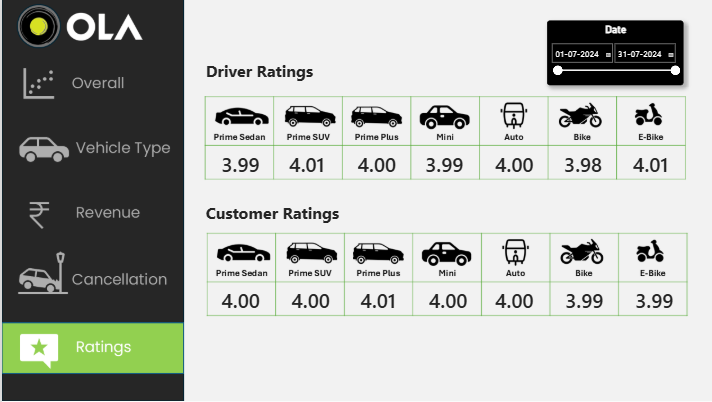

This screenshot's page, from the dashboard's own definition file:
{"tool":"powerbi","page":{"name":"Ratings","canvas":[1920,1080],"ordinal":4},"visuals":[{"type":"actionButton","box":[0,512.4,490.3,130.2],"z":0},{"type":"actionButton","box":[0,332.4,490.3,130.2],"z":1000},{"type":"actionButton","box":[0,163.4,490.3,130.2],"z":2000},{"type":"actionButton","box":[0,673.1,490.3,130.2],"z":3000},{"type":"cardVisual","fields":{"Data":["Avg(July.Driver_Ratings)"]},"box":[542,398,186,88],"z":4000},{"type":"cardVisual","fields":{"Data":["Avg(July.Driver_Ratings)"]},"box":[720.9,398.2,186,88],"z":4001},{"type":"cardVisual","fields":{"Data":["Avg(July.Driver_Ratings)"]},"box":[906.4,398.2,186,88],"z":4002},{"type":"cardVisual","fields":{"Data":["Avg(July.Driver_Ratings)"]},"box":[1086,398,186,88],"z":4003},{"type":"cardVisual","fields":{"Data":["Avg(July.Driver_Ratings)"]},"box":[1272,398,186,88],"z":4004},{"type":"cardVisual","fields":{"Data":["Avg(July.Driver_Ratings)"]},"box":[1458,398,186,88],"z":4005},{"type":"cardVisual","fields":{"Data":["Avg(July.Driver_Ratings)"]},"box":[1638.2,398.2,186,88],"z":4006},{"type":"cardVisual","fields":{"Data":["Avg(July.Customer_Rating)"]},"box":[541.7,758.3,186,88],"z":4007},{"type":"cardVisual","fields":{"Data":["Avg(July.Customer_Rating)"]},"box":[728.3,758.3,186,88],"z":4008},{"type":"cardVisual","fields":{"Data":["Avg(July.Customer_Rating)"]},"box":[908.3,758.3,186,88],"z":4009},{"type":"cardVisual","fields":{"Data":["Avg(July.Customer_Rating)"]},"box":[1095,758.3,186,88],"z":4010},{"type":"cardVisual","fields":{"Data":["Avg(July.Customer_Rating)"]},"box":[1273.3,758.3,186,88],"z":4011},{"type":"cardVisual","fields":{"Data":["Avg(July.Customer_Rating)"]},"box":[1458.3,760,186,88],"z":4012},{"type":"cardVisual","fields":{"Data":["Avg(July.Customer_Rating)"]},"box":[1645,758.3,186,88],"z":4013},{"type":"textbox","box":[541.7,163.3,370,70],"z":4014},{"type":"textbox","box":[541.7,543.3,370,70],"z":4015},{"type":"slicer","title":"Date","fields":{"Values":["July.Date"]},"box":[1453.3,60,364.3,172.9],"z":4016}]}

Visuals, with their boxes on the page's 1920x1080 design canvas (x1, y1, x2, y2). These are canvas units, not pixel positions in the 712x402 screenshot, which may show the page scaled, cropped or inside an application window:
actionButton: rect(0, 512, 490, 643)
actionButton: rect(0, 332, 490, 463)
actionButton: rect(0, 163, 490, 294)
actionButton: rect(0, 673, 490, 803)
cardVisual - Avg(July.Driver_Ratings): rect(542, 398, 728, 486)
cardVisual - Avg(July.Driver_Ratings): rect(721, 398, 907, 486)
cardVisual - Avg(July.Driver_Ratings): rect(906, 398, 1092, 486)
cardVisual - Avg(July.Driver_Ratings): rect(1086, 398, 1272, 486)
cardVisual - Avg(July.Driver_Ratings): rect(1272, 398, 1458, 486)
cardVisual - Avg(July.Driver_Ratings): rect(1458, 398, 1644, 486)
cardVisual - Avg(July.Driver_Ratings): rect(1638, 398, 1824, 486)
cardVisual - Avg(July.Customer_Rating): rect(542, 758, 728, 846)
cardVisual - Avg(July.Customer_Rating): rect(728, 758, 914, 846)
cardVisual - Avg(July.Customer_Rating): rect(908, 758, 1094, 846)
cardVisual - Avg(July.Customer_Rating): rect(1095, 758, 1281, 846)
cardVisual - Avg(July.Customer_Rating): rect(1273, 758, 1459, 846)
cardVisual - Avg(July.Customer_Rating): rect(1458, 760, 1644, 848)
cardVisual - Avg(July.Customer_Rating): rect(1645, 758, 1831, 846)
textbox: rect(542, 163, 912, 233)
textbox: rect(542, 543, 912, 613)
"Date" slicer: rect(1453, 60, 1818, 233)
